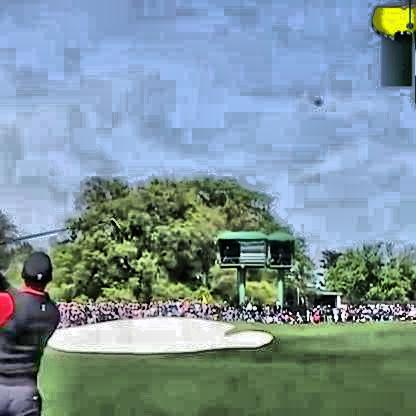golfball: (308, 91, 319, 104)
